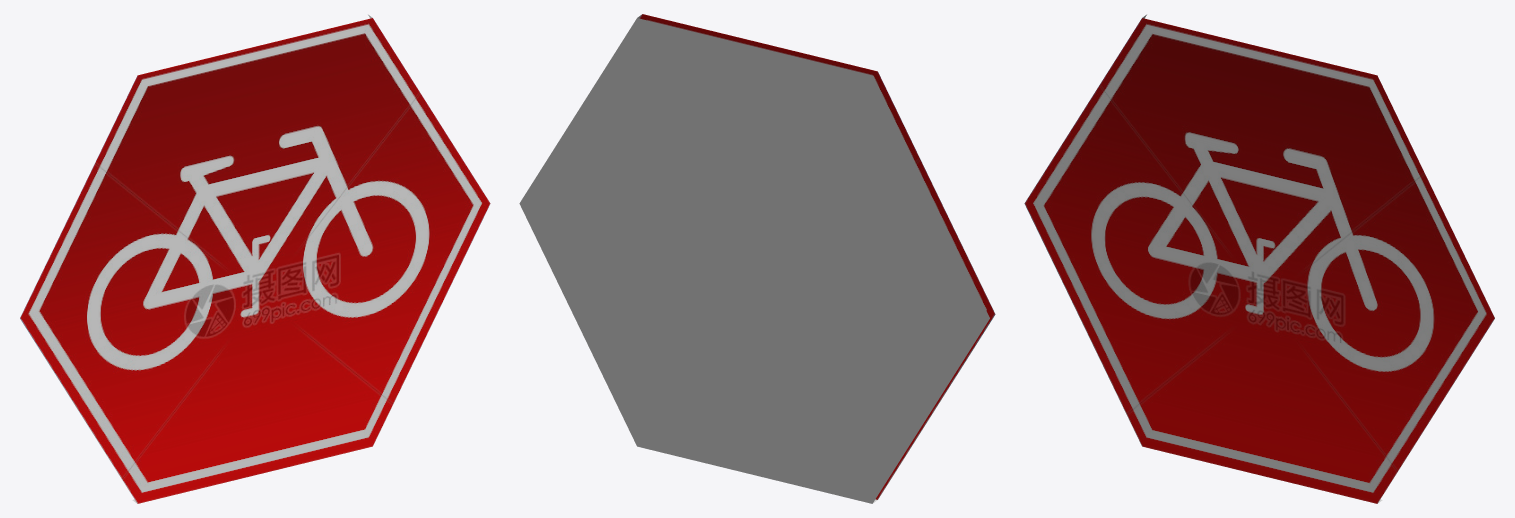
File: RegularHexagon.gltf
3 renders of one model, left to right at view 1: azimuth 30°, elevation 25°; view 2: azimuth 150°, elevation 25°; view 3: azimuth 330°, elevation 25°, orthographic.
Parts seen in each view (by area): view 1: SignNode; view 2: SignNode; view 3: SignNode.
Boxes of the visible parts, x1,y1,x2,y2 form: SignNode: [20, 14, 490, 503]; SignNode: [519, 14, 995, 503]; SignNode: [1024, 14, 1494, 503].
Bounding box in the file's own units: 1 × 0.87 × 0.02.
2 materials, 1 textured.
